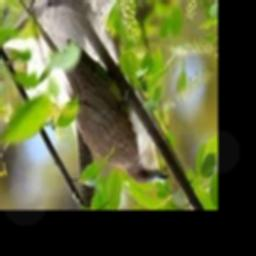Cuckoo: (17, 0, 169, 184)
